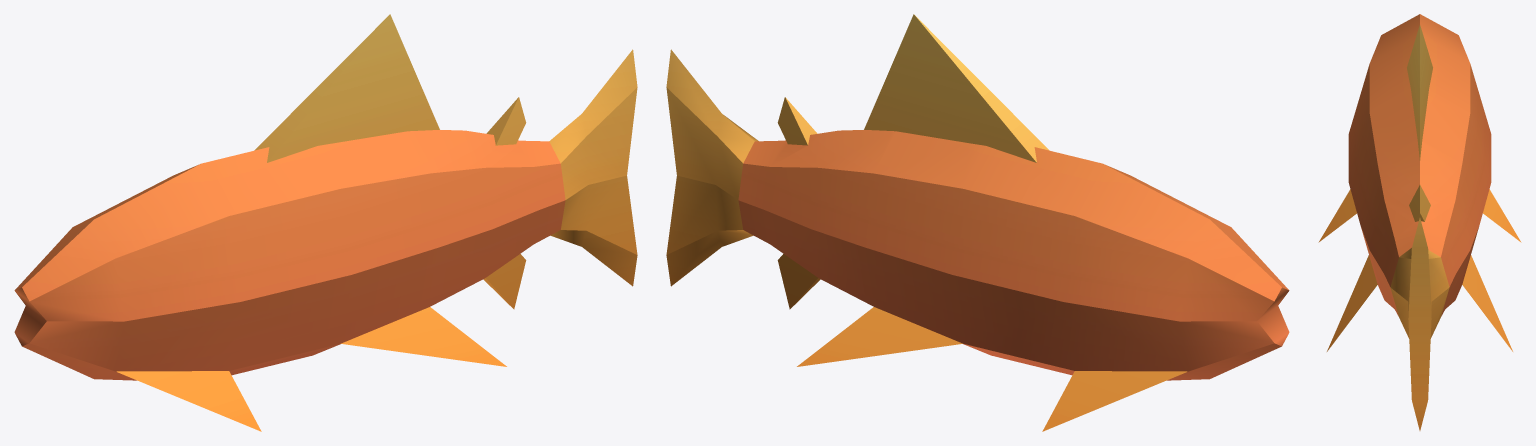
The model's file is fish.glb.
The picture shows the model from 3 angles, left to right: view 1: azimuth 30°, elevation 25°; view 2: azimuth 150°, elevation 25°; view 3: azimuth 270°, elevation 25°; orthographic projection. The views are drawn at different scales.
Visible parts, largest first — view 1: fish; view 2: fish; view 3: fish.
Part boxes in pixels (<box>): fish: <box>14,14,637,431</box>; fish: <box>666,14,1289,431</box>; fish: <box>1318,14,1521,430</box>.
Size of the model in its own units: 0.2049 by 0.1063 by 0.0653.
Materials: 1 (1 with a texture image).
